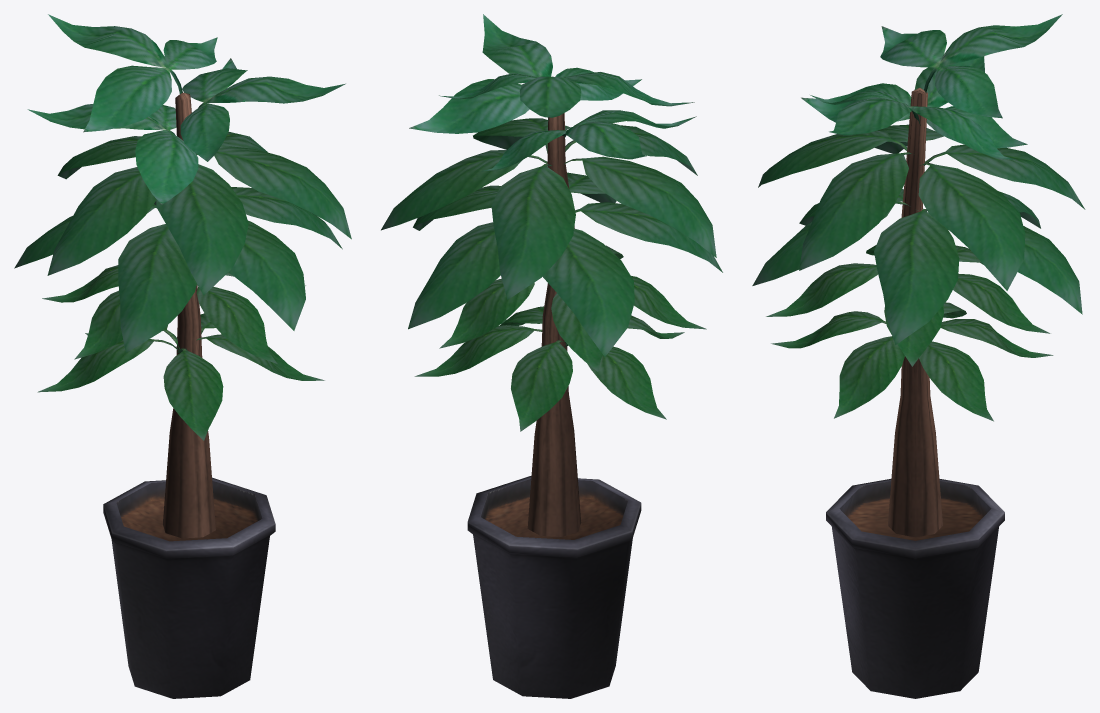
The model's file is BianLiDian_01_lvsezhiwu_01.FBX.
The picture shows the model from 3 angles, left to right: view 1: azimuth 30°, elevation 25°; view 2: azimuth 150°, elevation 25°; view 3: azimuth 270°, elevation 25°; orthographic projection.
Parts seen in each view (by area): view 1: BianLiDian_01_lvsezhiwu_01; view 2: BianLiDian_01_lvsezhiwu_01; view 3: BianLiDian_01_lvsezhiwu_01.
Part boxes in pixels (<box>): BianLiDian_01_lvsezhiwu_01: <box>14,14,351,698</box>; BianLiDian_01_lvsezhiwu_01: <box>381,14,722,698</box>; BianLiDian_01_lvsezhiwu_01: <box>752,14,1085,698</box>.
Bounding box in the file's own units: 359 × 724 × 350.
